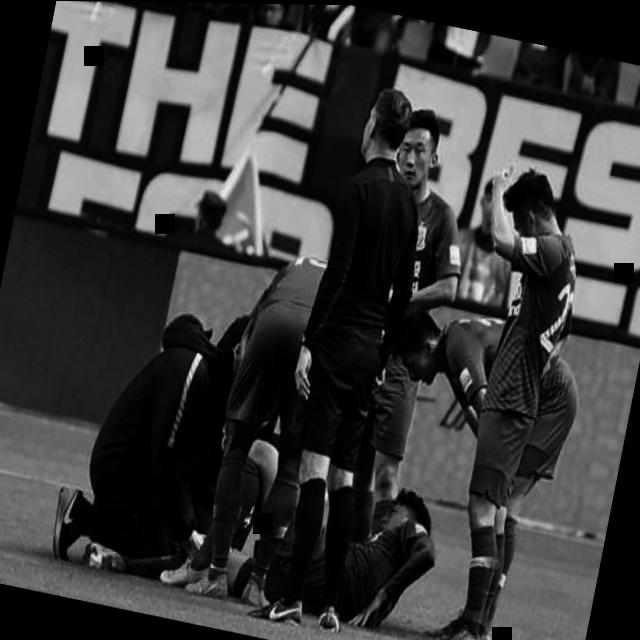Fall-Detected: (247, 435, 468, 640)
